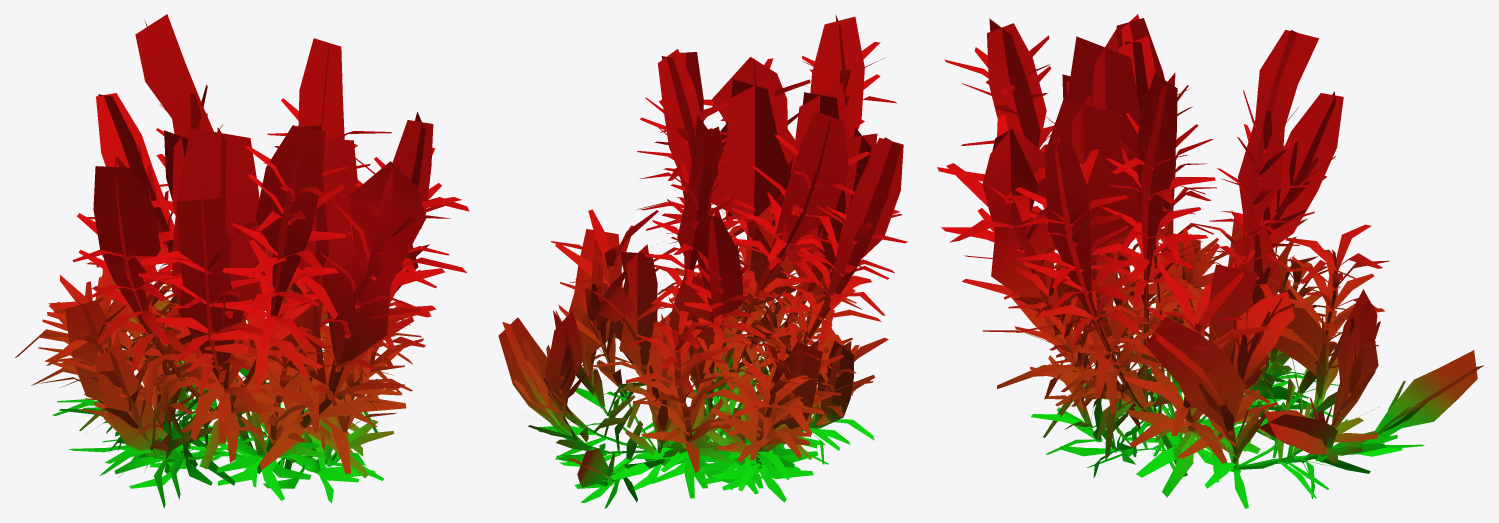
The model's file is Var5_LOD4.fbx.
3 views of the same model, side by side, from view 1: azimuth 30°, elevation 25°; view 2: azimuth 150°, elevation 25°; view 3: azimuth 270°, elevation 25° (orthographic). The views are drawn at different scales.
Visible parts, largest first — view 1: _1355_Var5_LOD4; view 2: _1355_Var5_LOD4; view 3: _1355_Var5_LOD4.
Boxes of the visible parts, x1,y1,x2,y2 form: _1355_Var5_LOD4: (15,14,469,508); _1355_Var5_LOD4: (498,14,907,508); _1355_Var5_LOD4: (937,14,1483,508).
Bounding box in the file's own units: 27.86 × 29.33 × 34.49.
